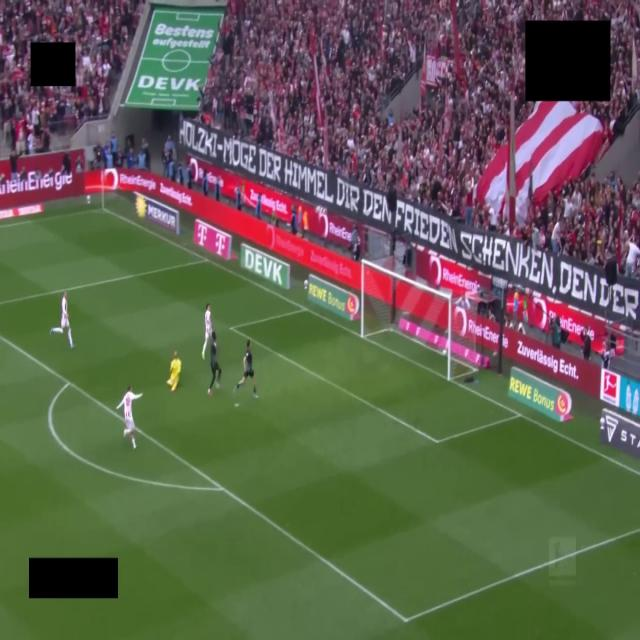player: (117, 386, 142, 448), (234, 340, 257, 398), (50, 291, 73, 348), (208, 331, 221, 395), (202, 304, 212, 359), (167, 352, 181, 391)
